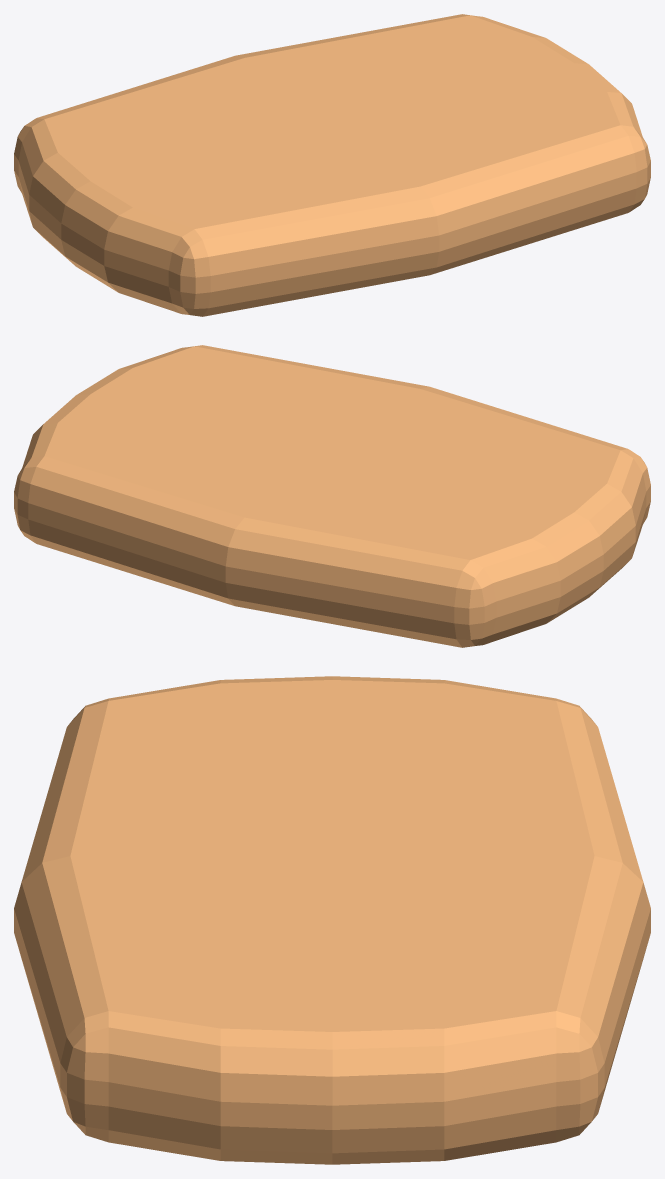
File: Pillow_13.fbx
The picture shows the model from 3 angles, top to bottom: view 1: azimuth 30°, elevation 25°; view 2: azimuth 150°, elevation 25°; view 3: azimuth 270°, elevation 25°; orthographic projection. The views are drawn at different scales.
Visible parts, largest first — view 1: Pillow_13; view 2: Pillow_13; view 3: Pillow_13.
Part boxes in pixels (x1,y1,x2,y2): Pillow_13: [14, 14, 650, 316]; Pillow_13: [14, 345, 650, 647]; Pillow_13: [14, 676, 650, 1164].
Bounding box in the file's own units: 0.6693 × 0.102 × 0.4563.
